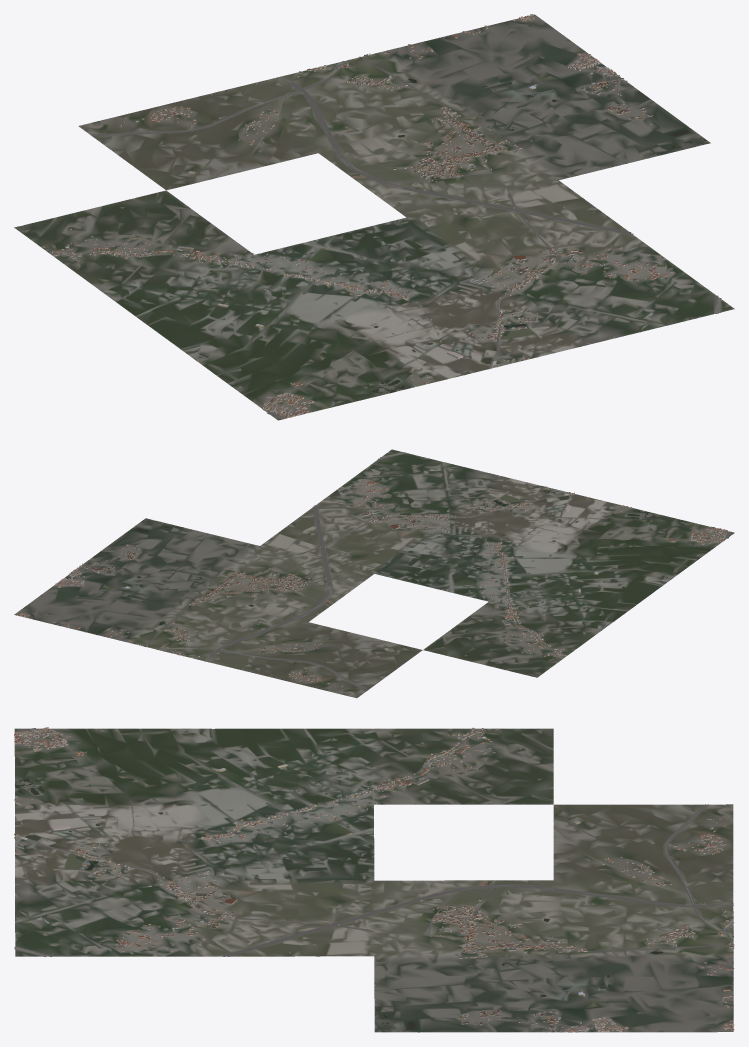
The picture shows the model from 3 angles, top to bottom: view 1: azimuth 30°, elevation 25°; view 2: azimuth 150°, elevation 25°; view 3: azimuth 270°, elevation 25°; orthographic projection. The views are drawn at different scales.
Parts seen in each view (by area): view 1: ground, buildings, roads, water; view 2: ground, buildings, roads, water; view 3: ground, buildings, roads, water.
Boxes of the visible parts, x1,y1,x2,y2 form: ground: (14,14,734,420); buildings: (42,14,673,417); roads: (54,25,721,419); water: (248,61,706,393); ground: (14,449,734,698); buildings: (16,468,727,689); roads: (49,452,731,691); water: (66,465,655,649); ground: (14,728,733,1032); buildings: (14,727,734,1032); roads: (14,728,734,1008); water: (15,778,733,1032).
Size of the model in its own units: 5622 by 26.11 by 5628.
